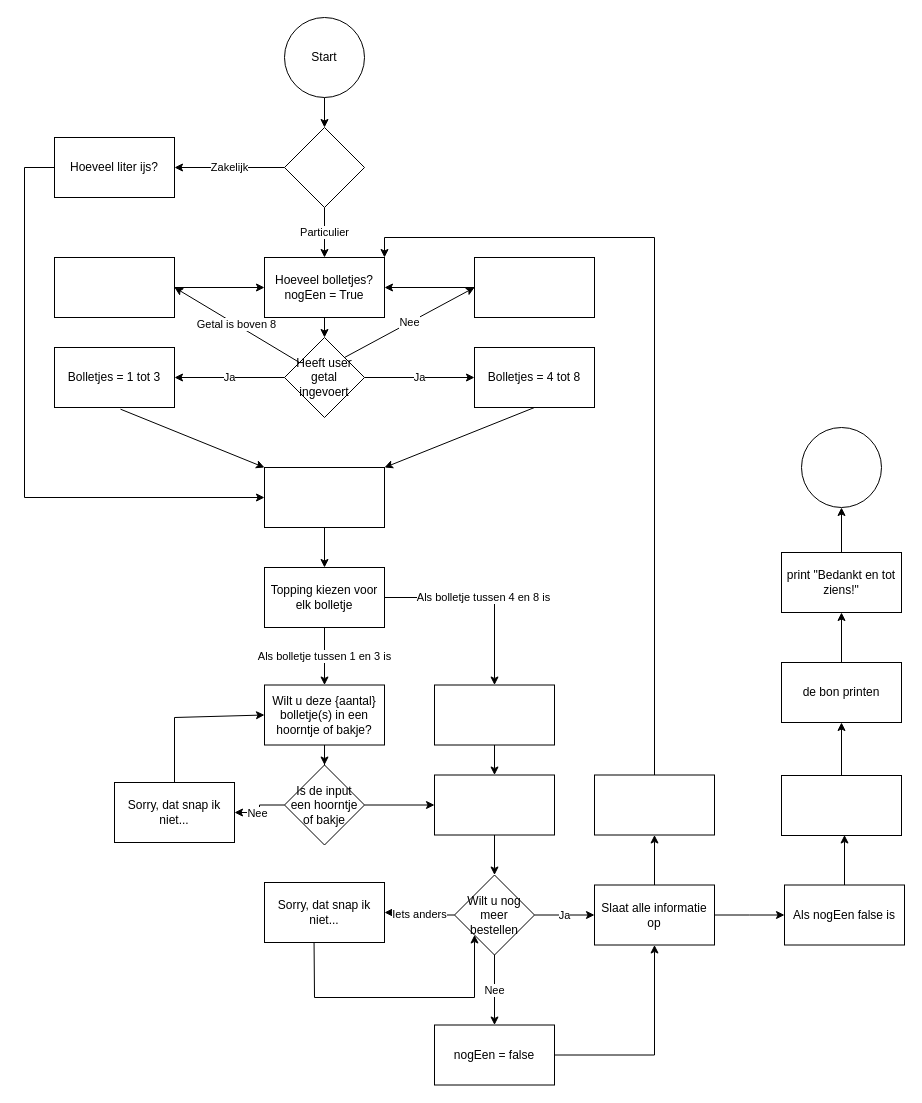
Image size: 922x1103. Some labels were removed from this diagram. The shapes that lost their labels are listed below. From the top down, each one's centre as x and y in pixels, then its label:
At (324,167): "Zakelijk of Particulier".
At (114,287): "Sorry, zulke grote bakken hebben we niet".
At (534,287): "Sorry dat snap ik niet...".
At (841,467): "Einde".
At (324,497): "Smaak kiezen".
At (494,714): "Dan krijgt u van mij een bakje met {aantal} bolletjes".
At (494,804): "Hier is uw {hoorntje/bakje} met {aantal} bolletje(s)".
At (654,804): "Als nogEen true is".
At (841,805): "Berekent alle kosten".
